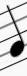G: (3, 3, 26, 63)
